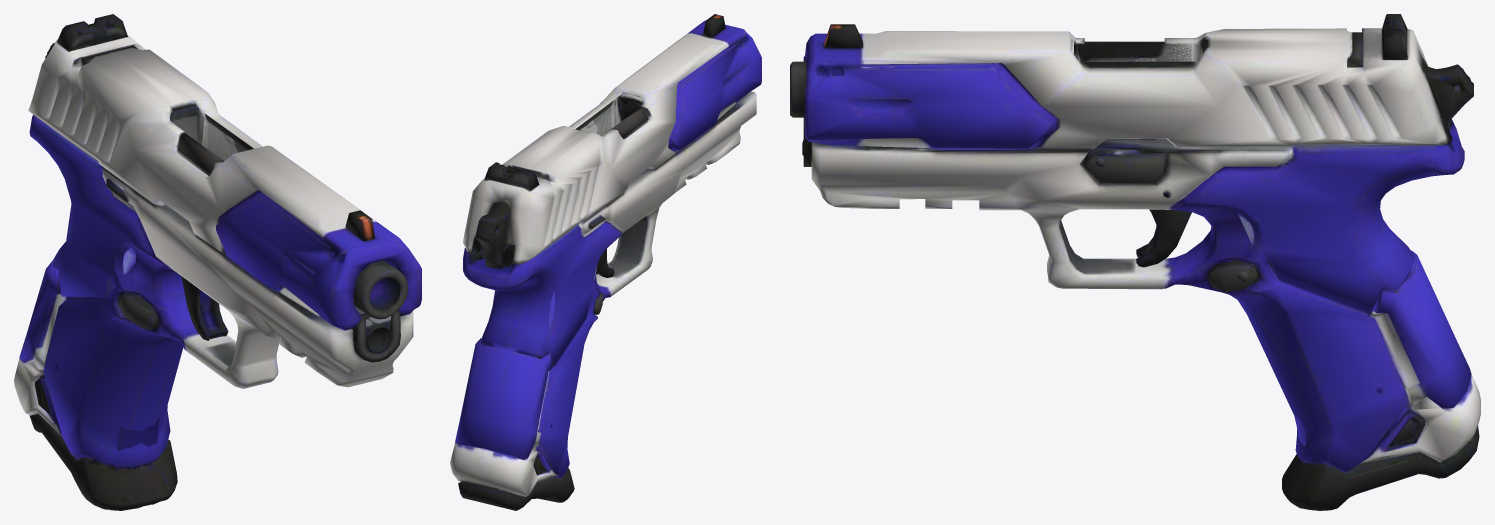
The model's file is weapon-pistol-v1.glb.
3 views of the same model, side by side, from view 1: azimuth 30°, elevation 25°; view 2: azimuth 150°, elevation 25°; view 3: azimuth 270°, elevation 25° (orthographic). The views are drawn at different scales.
Visible parts, largest first — view 1: weapon-pistol-v1; view 2: weapon-pistol-v1; view 3: weapon-pistol-v1.
Part boxes in pixels (<box>): weapon-pistol-v1: <box>14,14,421,510</box>; weapon-pistol-v1: <box>450,14,761,510</box>; weapon-pistol-v1: <box>790,14,1480,510</box>.
Size of the model in its own units: 0.0422 by 0.1938 by 0.26.
1 material, 1 textured.
